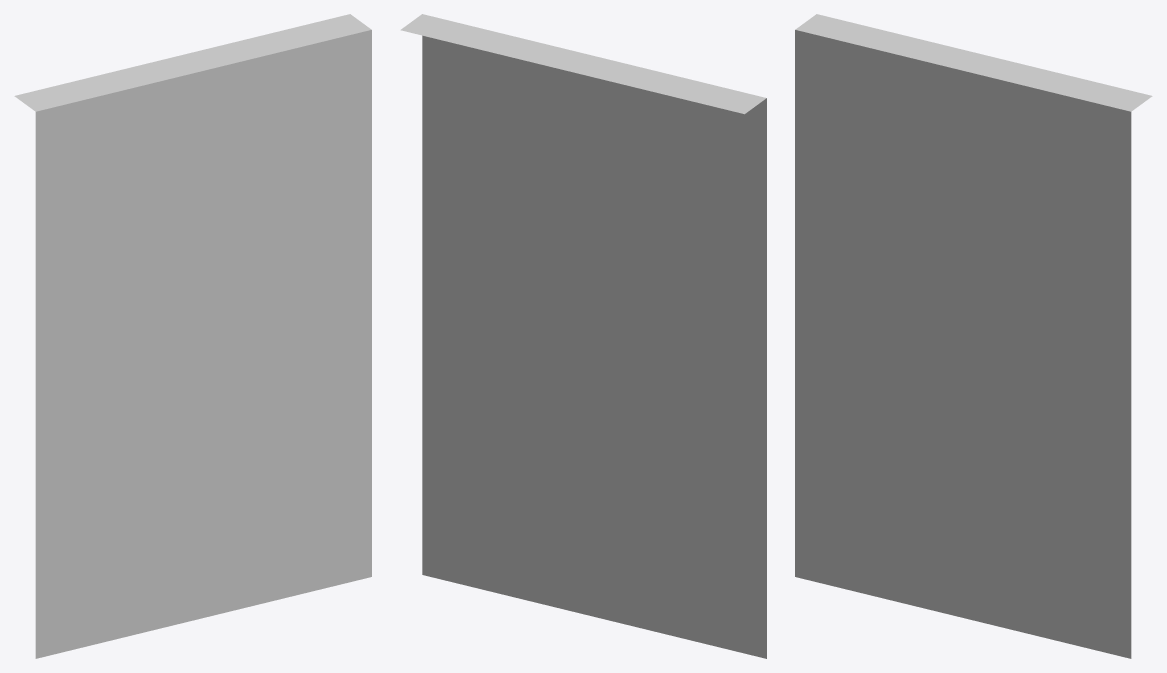
The model's file is M_Wall225White80.FBX.
3 views of the same model, side by side, from view 1: azimuth 30°, elevation 25°; view 2: azimuth 150°, elevation 25°; view 3: azimuth 330°, elevation 25° (orthographic). The views are drawn at different scales.
Parts seen in each view (by area): view 1: M_Wall225White80; view 2: M_Wall225White80; view 3: M_Wall225White80.
Part boxes in pixels (bbox=[...]): M_Wall225White80: bbox=[14, 14, 371, 658]; M_Wall225White80: bbox=[400, 14, 766, 658]; M_Wall225White80: bbox=[795, 14, 1152, 658].
Size of the model in its own units: 2.25 by 3.5 by 0.25.
